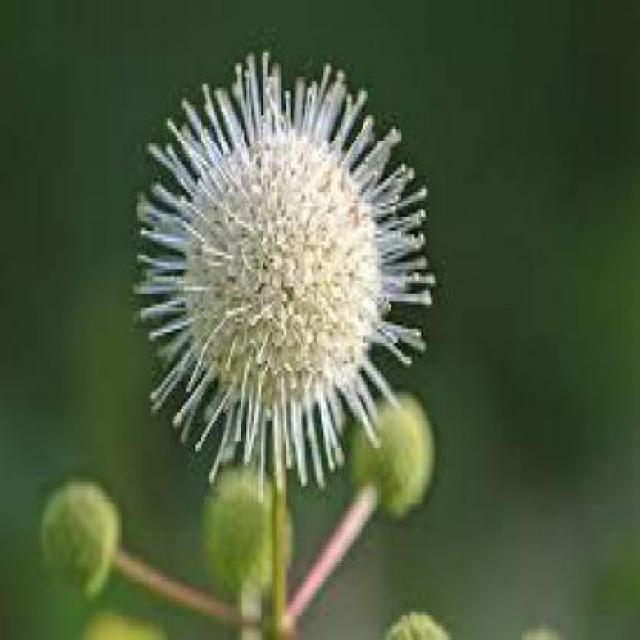flower: (134, 64, 437, 484)
